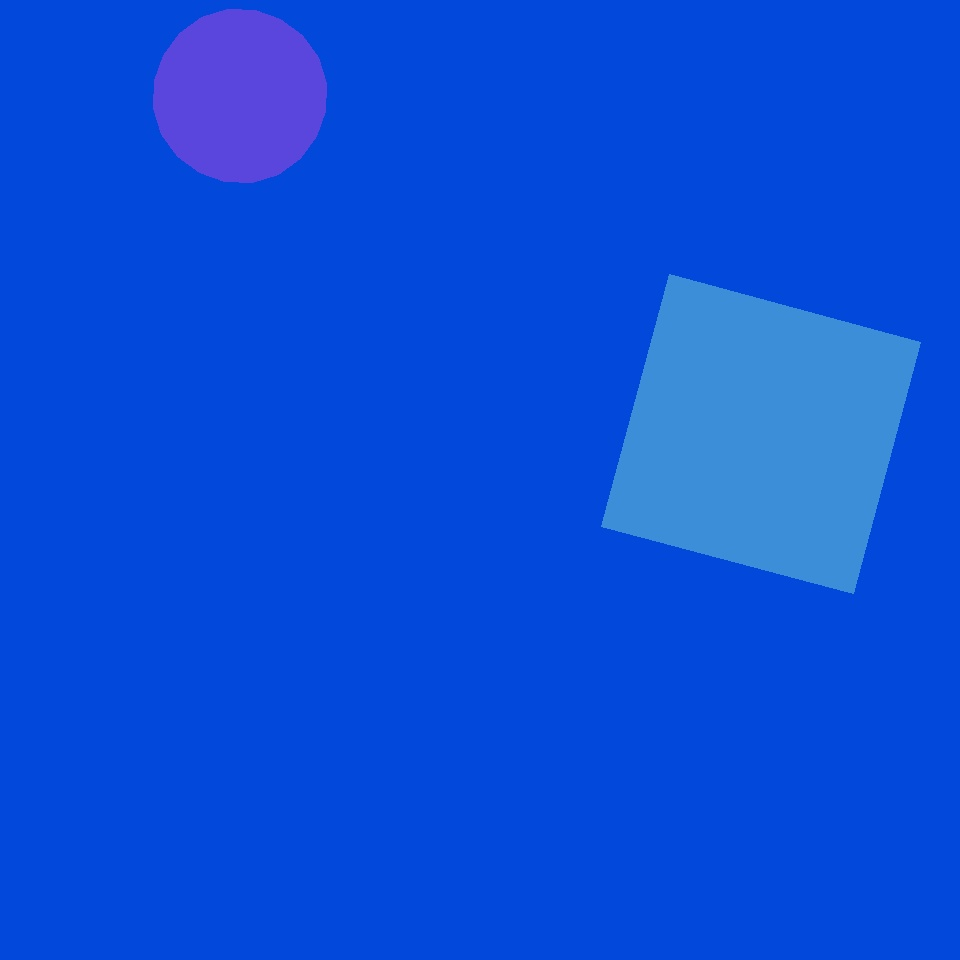square: (602, 274, 920, 594)
triangle: (132, 62, 468, 398), (652, 479, 957, 784), (154, 10, 326, 183)
